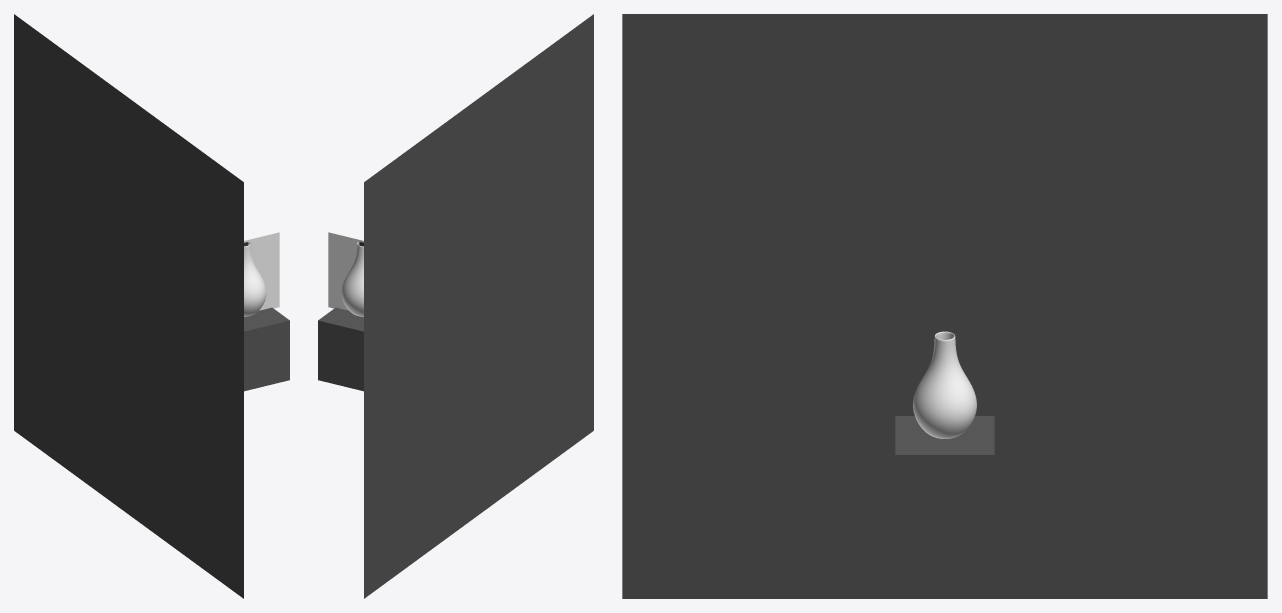
File: vase.glb
3 views of the same model, side by side, from view 1: azimuth 30°, elevation 25°; view 2: azimuth 150°, elevation 25°; view 3: azimuth 270°, elevation 25° (orthographic). The views are drawn at different scales.
Parts seen in each view (by area): view 1: Plane, Cube, matte-black-glass-teardrop-vase-h41-1000-6-20-199977_1, vase; view 2: Plane, Cube, matte-black-glass-teardrop-vase-h41-1000-6-20-199977_1, vase; view 3: Plane, Cube, vase.
Part boxes in pixels (bbox=[...]): Plane: bbox=[14, 14, 243, 598]; Cube: bbox=[244, 307, 289, 391]; matte-black-glass-teardrop-vase-h41-1000-6-20-199977_1: bbox=[244, 232, 279, 310]; vase: bbox=[244, 240, 266, 316]; Plane: bbox=[364, 14, 593, 598]; Cube: bbox=[318, 307, 363, 391]; matte-black-glass-teardrop-vase-h41-1000-6-20-199977_1: bbox=[328, 232, 363, 310]; vase: bbox=[341, 240, 363, 316]; Plane: bbox=[622, 14, 1267, 598]; Cube: bbox=[895, 416, 994, 538]; vase: bbox=[913, 331, 976, 438].
Size of the model in its own units: 2.1 by 5.56 by 5.56.
3 materials, 1 textured.
